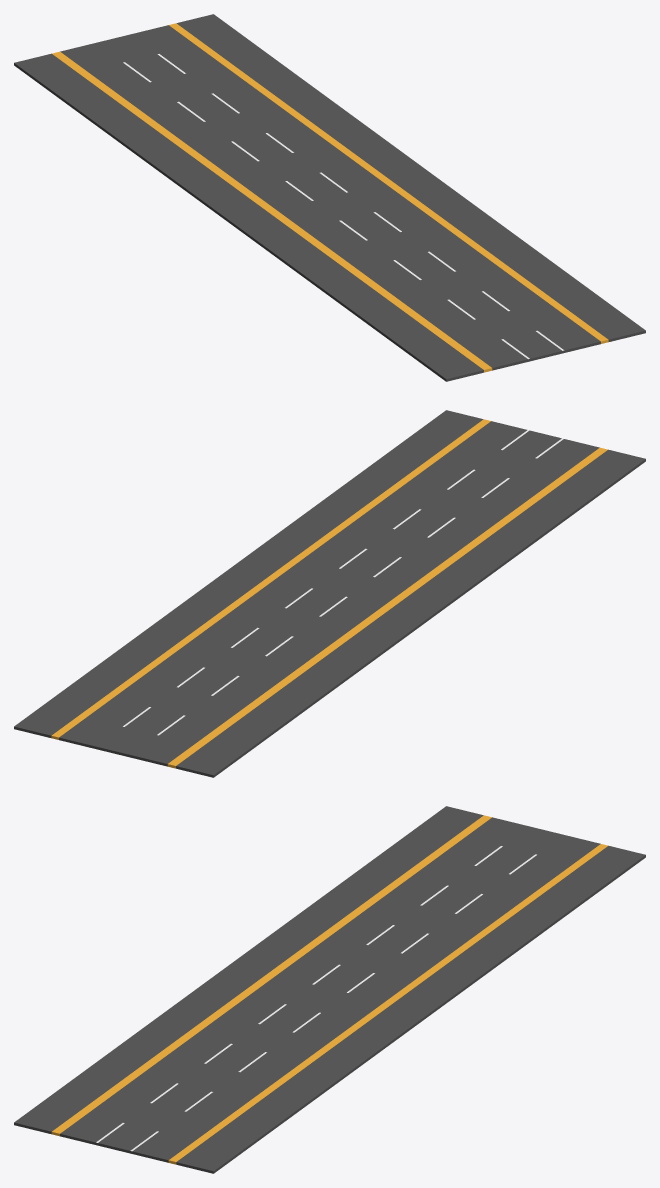
Rendered from RoadPrafab.fbx.
3 renders of one model, top to bottom at view 1: azimuth 30°, elevation 25°; view 2: azimuth 150°, elevation 25°; view 3: azimuth 330°, elevation 25°, orthographic.
Parts seen in each view (by area): view 1: Cube; view 2: Cube; view 3: Cube.
Boxes of the visible parts, x1,y1,x2,y2 form: Cube: (14, 14, 645, 381); Cube: (14, 410, 645, 777); Cube: (14, 806, 645, 1173).
Size of the model in its own units: 3000 by 10 by 800.
